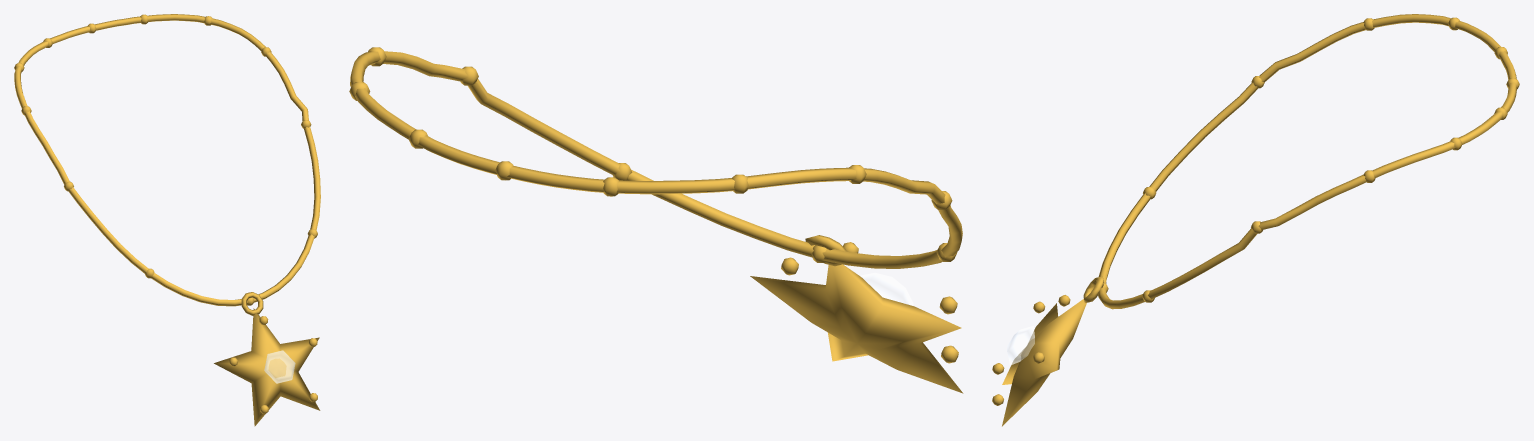
File: star_necklace.glb
3 views of the same model, side by side, from view 1: azimuth 30°, elevation 25°; view 2: azimuth 150°, elevation 25°; view 3: azimuth 270°, elevation 25° (orthographic). The views are drawn at different scales.
Visible parts, largest first — view 1: star_necklace; view 2: star_necklace; view 3: star_necklace.
Boxes of the visible parts, x1,y1,x2,y2 form: star_necklace: (14, 14, 320, 426); star_necklace: (349, 47, 963, 393); star_necklace: (992, 14, 1519, 426).
Size of the model in its own units: 0.0907 by 0.0873 by 0.127.
